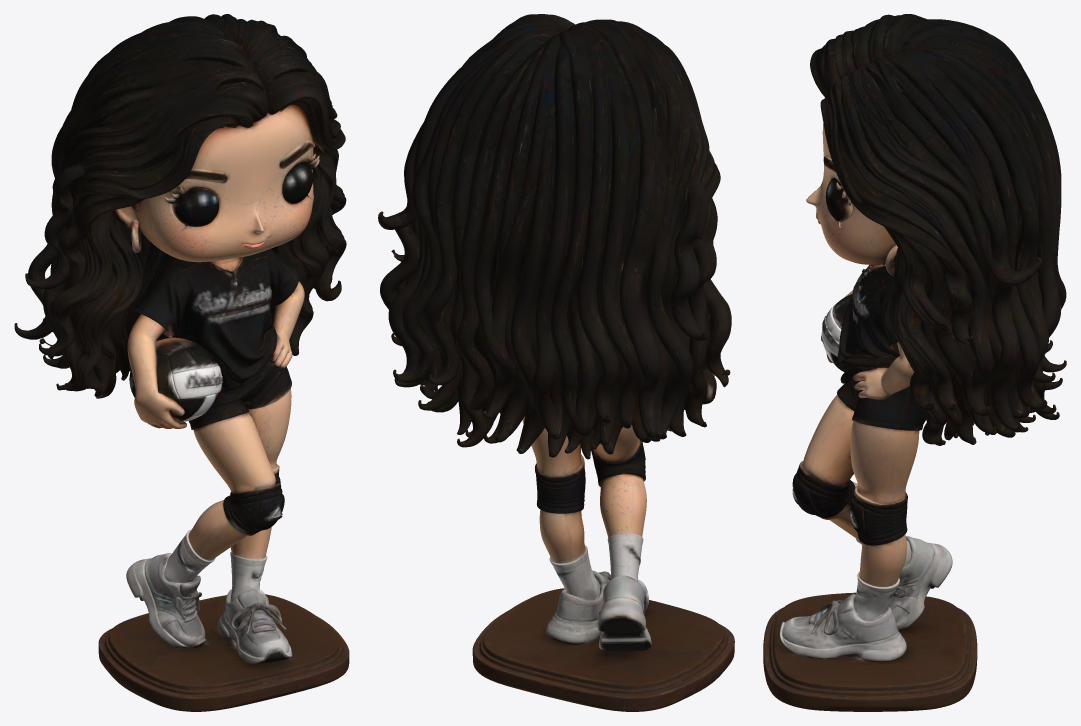
File: DianaLovis.glb
The picture shows the model from 3 angles, left to right: view 1: azimuth 30°, elevation 25°; view 2: azimuth 150°, elevation 25°; view 3: azimuth 270°, elevation 25°; orthographic projection. The views are drawn at different scales.
Bounding box in the file's own units: 0.5673 × 1.09 × 0.4715.
1 material, 1 textured.
